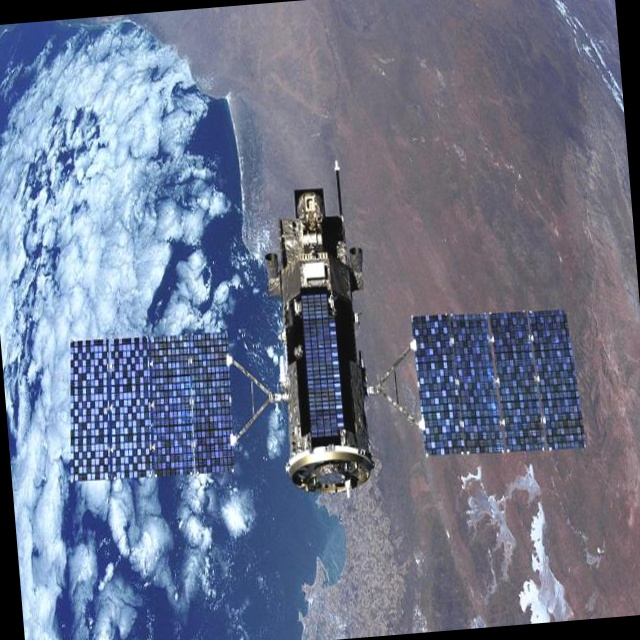satellite: (40, 138, 603, 533)
